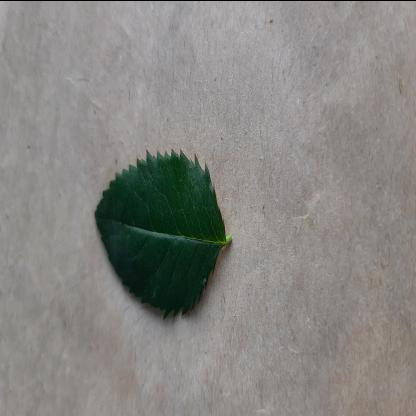normal: (94, 111, 226, 323)
